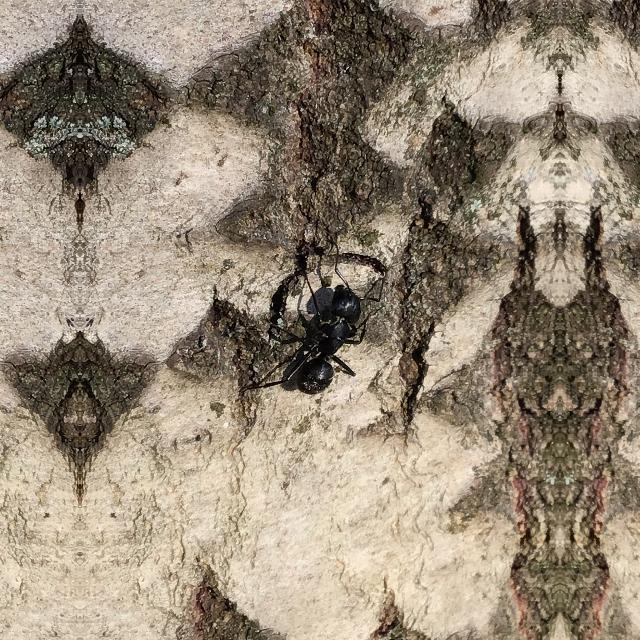Camponotus: (256, 262, 420, 412)
